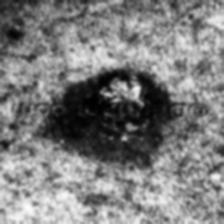Potentially Malignant Skin Tumors: (47, 72, 174, 168)
